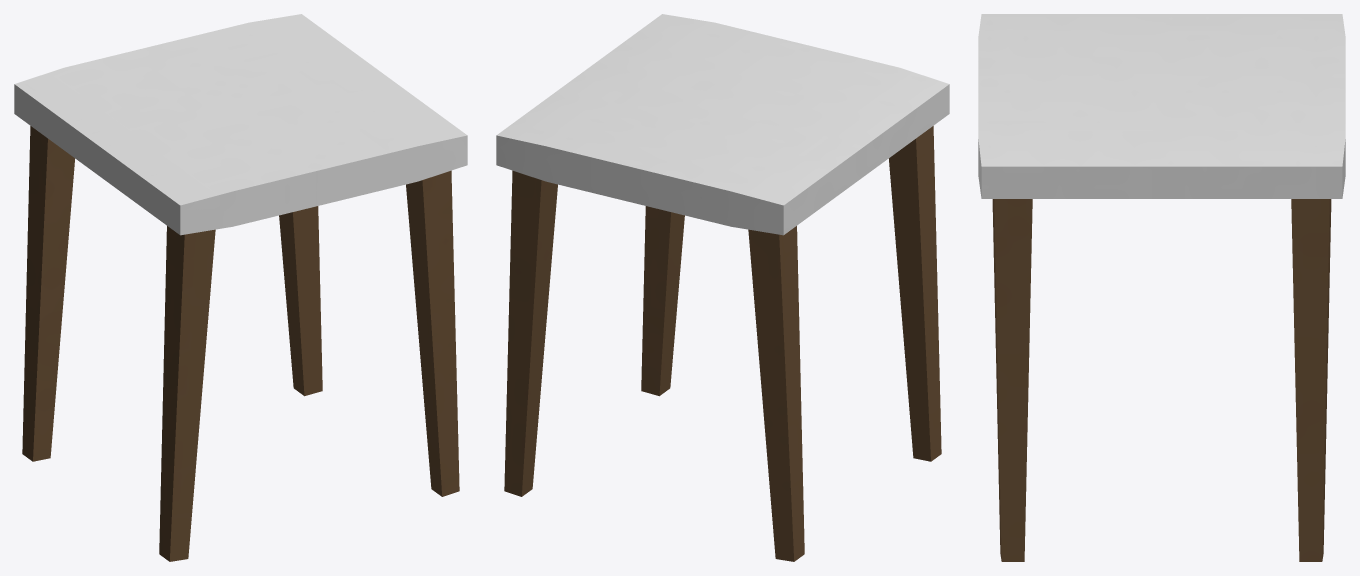
File: Chair_01_04.fbx
3 renders of one model, left to right at view 1: azimuth 30°, elevation 25°; view 2: azimuth 150°, elevation 25°; view 3: azimuth 270°, elevation 25°, orthographic. The views are drawn at different scales.
Visible parts, largest first — view 1: Chair_01_04; view 2: Chair_01_04; view 3: Chair_01_04.
Part boxes in pixels (<box>): Chair_01_04: <box>14,14,467,561</box>; Chair_01_04: <box>496,14,949,561</box>; Chair_01_04: <box>978,14,1345,561</box>.
Bounding box in the file's own units: 0.4836 × 0.5845 × 0.4882.
